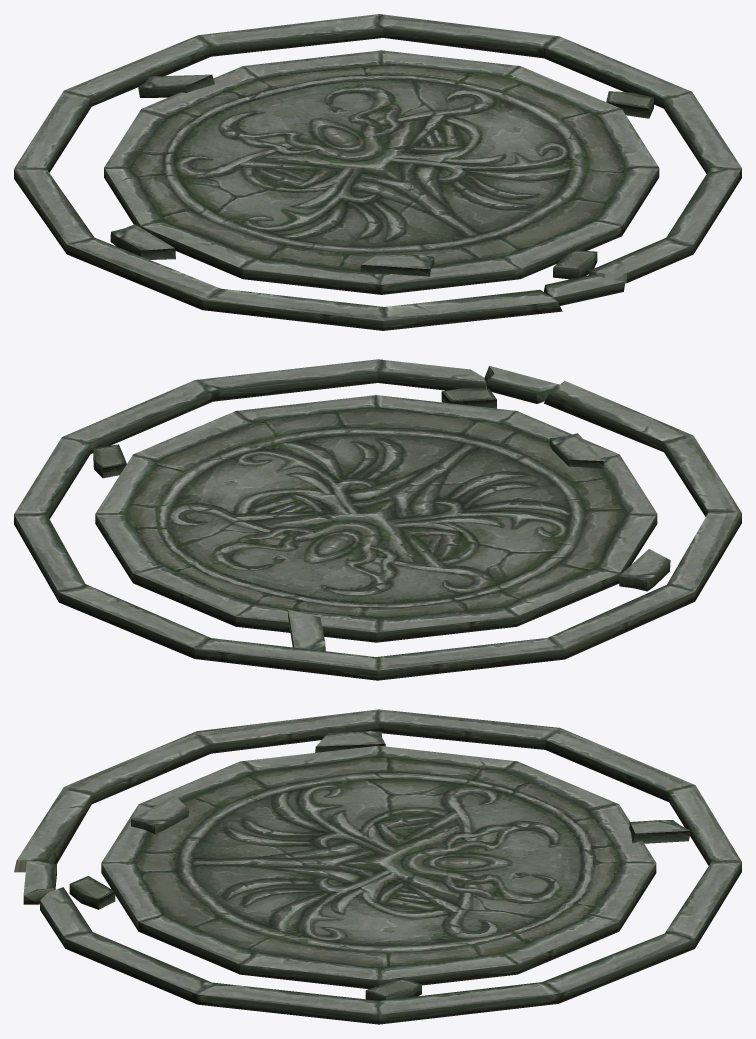
The model's file is 1005_Item_taizi_2.FBX.
3 views of the same model, one above another, from view 1: azimuth 30°, elevation 25°; view 2: azimuth 150°, elevation 25°; view 3: azimuth 270°, elevation 25° (orthographic).
Visible parts, largest first — view 1: 1005_Item_taizi_2; view 2: 1005_Item_taizi_2; view 3: 1005_Item_taizi_2.
Boxes of the visible parts, <box> form: 1005_Item_taizi_2: <box>14,14,741,330</box>; 1005_Item_taizi_2: <box>14,359,741,680</box>; 1005_Item_taizi_2: <box>14,709,741,1024</box>.
Size of the model in its own units: 3070 by 3095 by 112.
